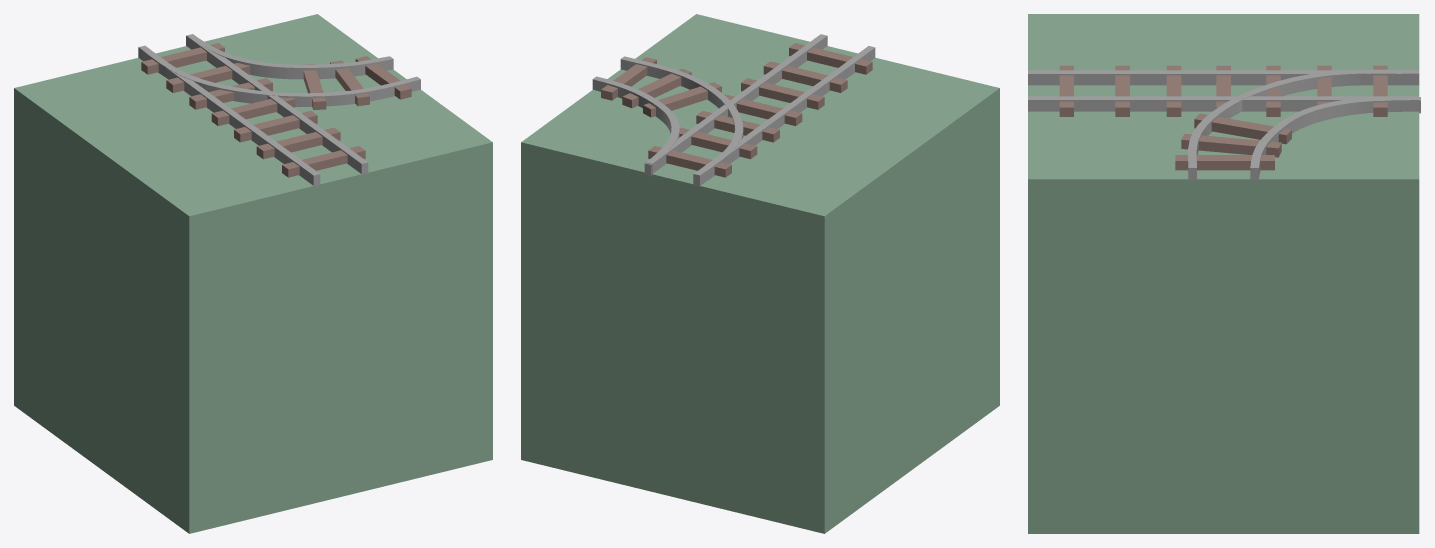
File: Switch_Straight_Left.fbx
3 views of the same model, side by side, from view 1: azimuth 30°, elevation 25°; view 2: azimuth 150°, elevation 25°; view 3: azimuth 270°, elevation 25° (orthographic). The views are drawn at different scales.
Parts seen in each view (by area): view 1: rechtdoor2_hout1; view 2: rechtdoor2_hout1; view 3: rechtdoor2_hout1.
Boxes of the visible parts, x1,y1,x2,y2 form: rechtdoor2_hout1: [14, 14, 492, 533]; rechtdoor2_hout1: [521, 14, 999, 533]; rechtdoor2_hout1: [1028, 14, 1420, 533].
Size of the model in its own units: 1 by 1.04 by 1.
